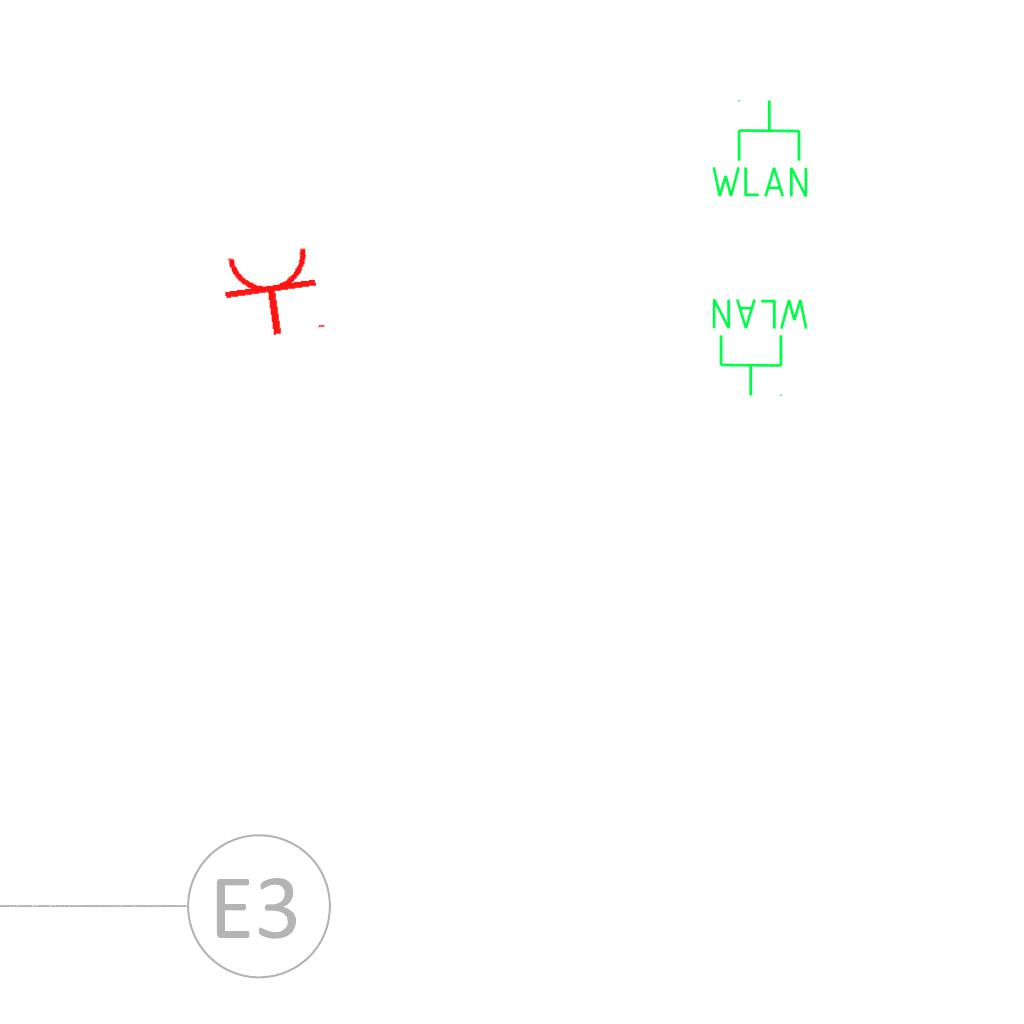Schukosteckdose_einfach: (217, 242, 330, 344)
WLAN: (707, 97, 812, 201), (708, 295, 813, 399)
